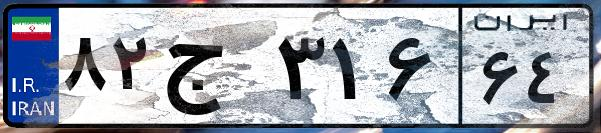1: (330, 28, 385, 110)
2: (110, 28, 158, 98)
3: (270, 28, 330, 110)
4: (525, 38, 570, 115)
6: (385, 28, 445, 110), (475, 38, 525, 113)
8: (57, 26, 110, 100)
ج: (158, 20, 270, 120)
